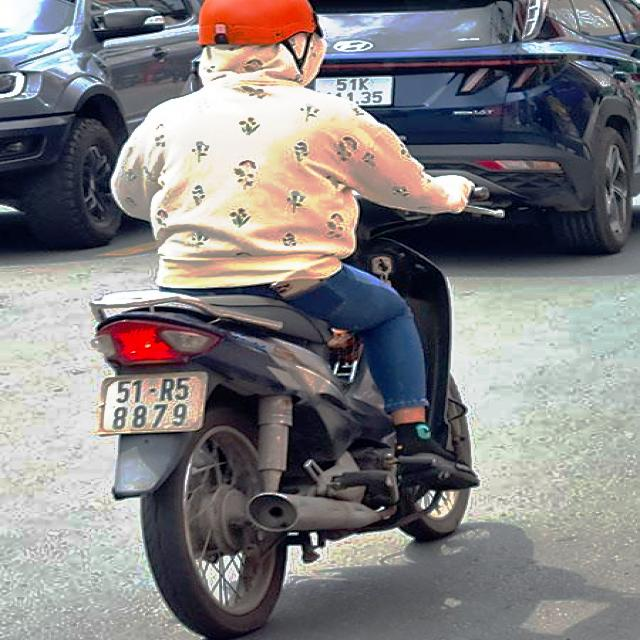license_plate: (100, 370, 211, 433)
